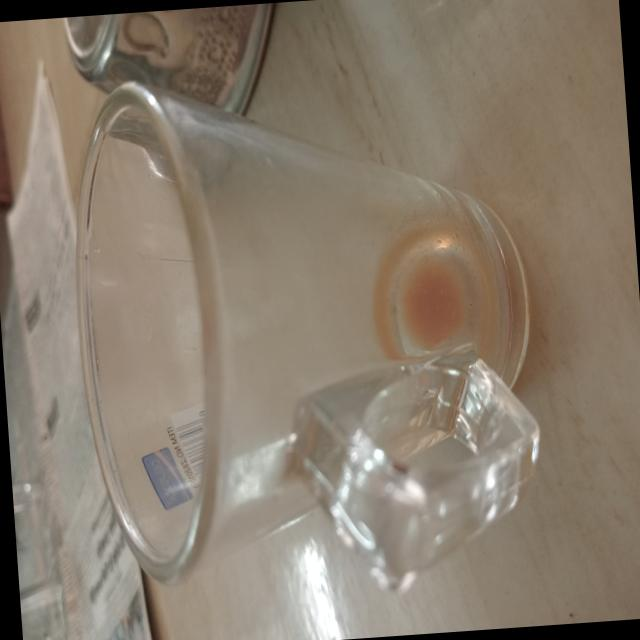glass-VX4N: (73, 60, 554, 618)
